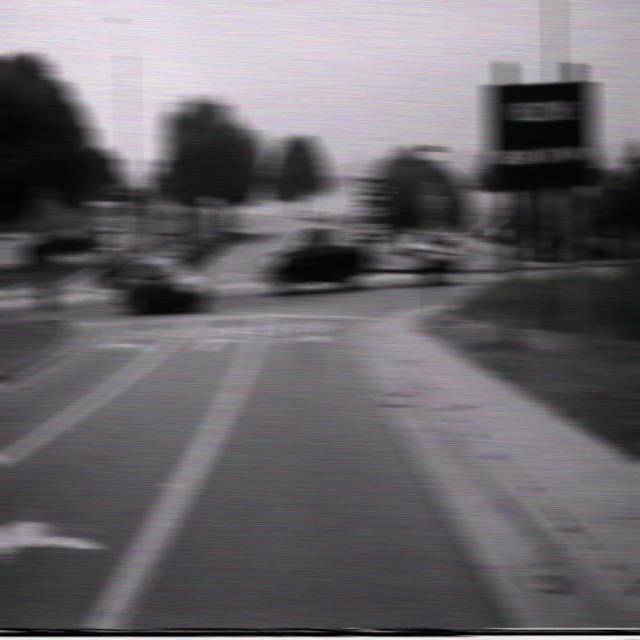stop: (420, 180, 448, 223), (31, 184, 58, 224)
